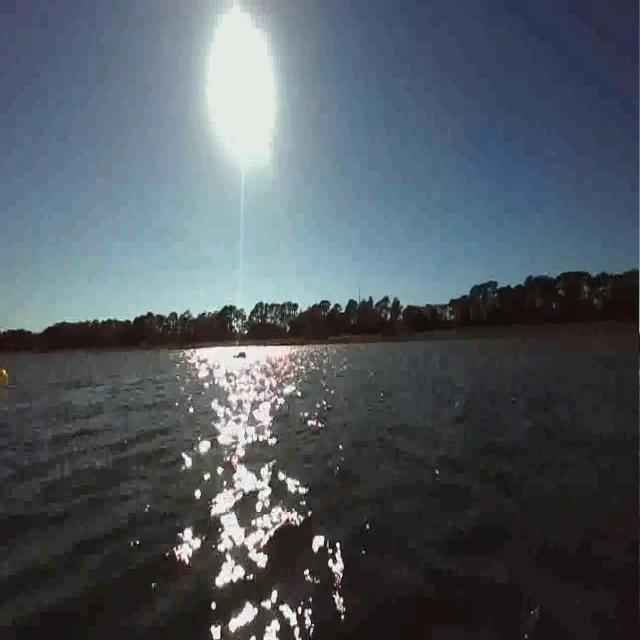yellow-buoy: (0, 368, 9, 387)
